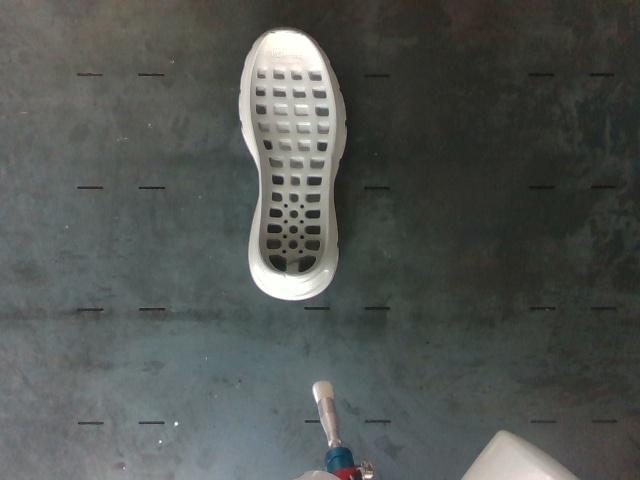shoes: (249, 29, 336, 278)
